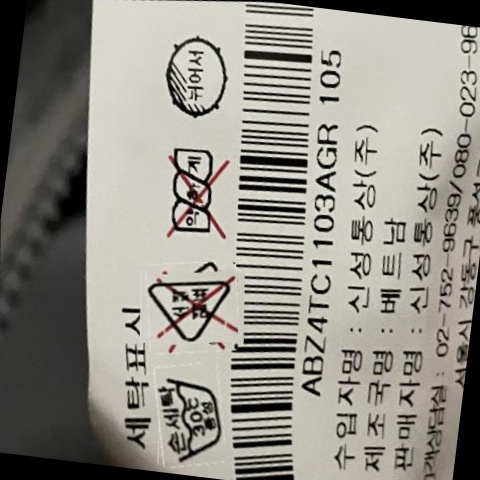DN_wring: (155, 139, 237, 250)
dry_flat_in_shade: (154, 26, 239, 126)
hand_wash: (153, 362, 231, 470)
non_chlorine_bleach: (147, 259, 237, 350)
